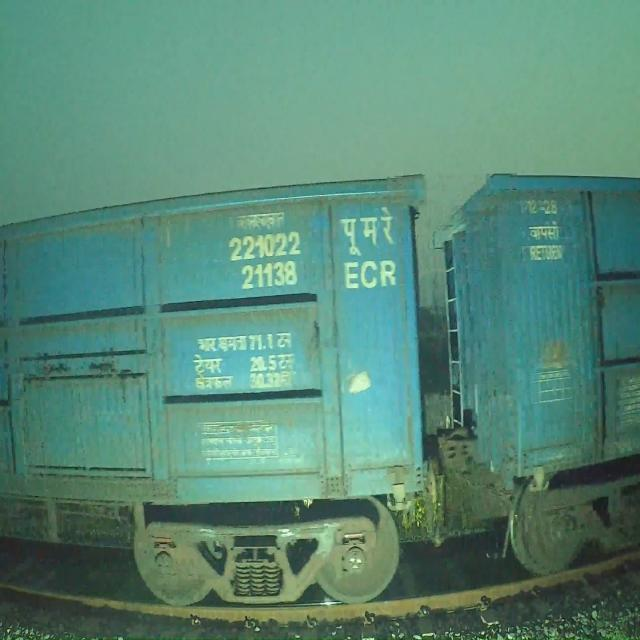WAgon-uic: (0, 171, 428, 605), (437, 171, 640, 574)
uic: (228, 230, 301, 294)
